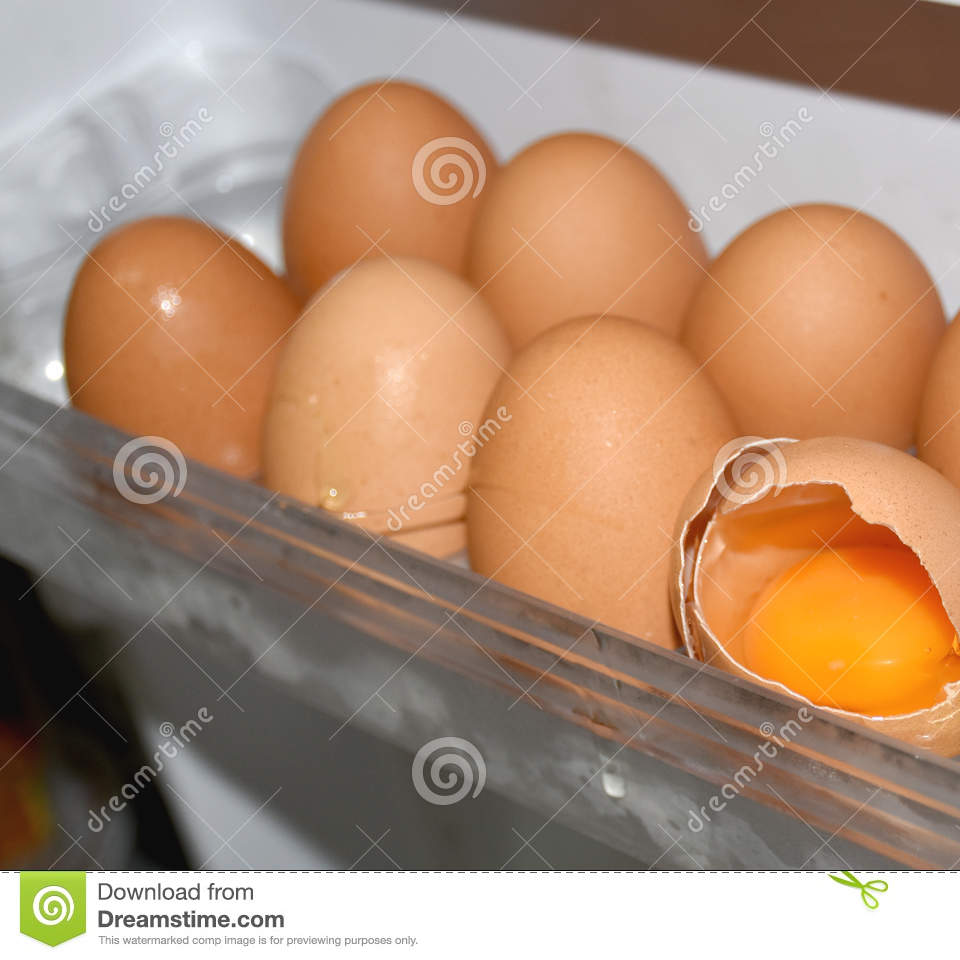egg: (60, 79, 960, 740)
